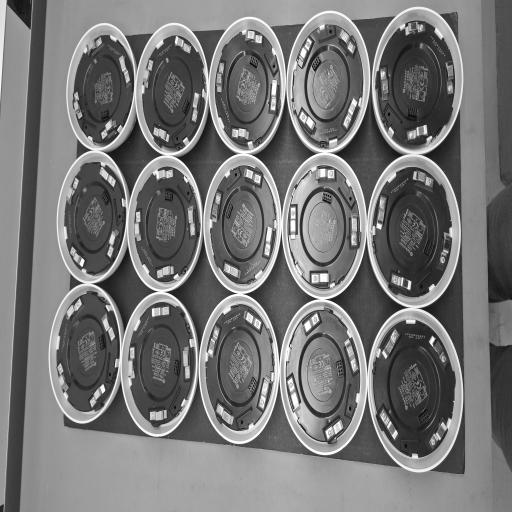konnektor: (335, 356, 344, 381), (424, 237, 434, 259), (310, 55, 322, 73), (417, 409, 429, 427), (224, 202, 234, 222), (248, 54, 260, 70), (248, 376, 257, 397), (407, 107, 421, 120), (181, 97, 190, 117), (100, 191, 112, 206), (98, 108, 110, 122), (97, 333, 105, 353), (321, 191, 332, 204), (173, 358, 180, 377), (162, 190, 173, 202)
yayli: (427, 333, 451, 371), (286, 368, 304, 418), (378, 406, 401, 444), (298, 308, 324, 341), (379, 327, 401, 365), (388, 266, 414, 298), (321, 415, 346, 446), (336, 25, 358, 58), (341, 97, 360, 134), (429, 413, 448, 450), (408, 168, 436, 193), (344, 337, 360, 380), (442, 54, 456, 102), (404, 122, 431, 146), (438, 229, 453, 272), (297, 107, 317, 139), (213, 402, 235, 430), (374, 193, 389, 234), (101, 305, 117, 343), (64, 296, 84, 326), (207, 322, 222, 362), (308, 269, 334, 292), (297, 37, 314, 72), (172, 33, 194, 60), (258, 370, 272, 412), (88, 381, 108, 410), (55, 362, 71, 398), (184, 202, 198, 243), (116, 51, 131, 89), (378, 65, 392, 104), (64, 176, 81, 208), (106, 226, 121, 262), (142, 55, 155, 96), (286, 203, 299, 244), (210, 190, 224, 228), (230, 122, 252, 146), (240, 168, 264, 190), (154, 261, 176, 285), (402, 19, 427, 40), (85, 34, 104, 61), (95, 165, 117, 188), (68, 242, 86, 270), (127, 346, 140, 384), (269, 74, 280, 118), (152, 122, 171, 147), (348, 209, 359, 251), (222, 262, 244, 283), (312, 164, 337, 182), (190, 88, 202, 125), (147, 406, 169, 426), (182, 342, 192, 386), (99, 119, 118, 142), (262, 224, 274, 260), (148, 302, 171, 320), (154, 166, 175, 185), (71, 89, 83, 122), (216, 59, 225, 98), (134, 209, 144, 244), (242, 29, 262, 46)
